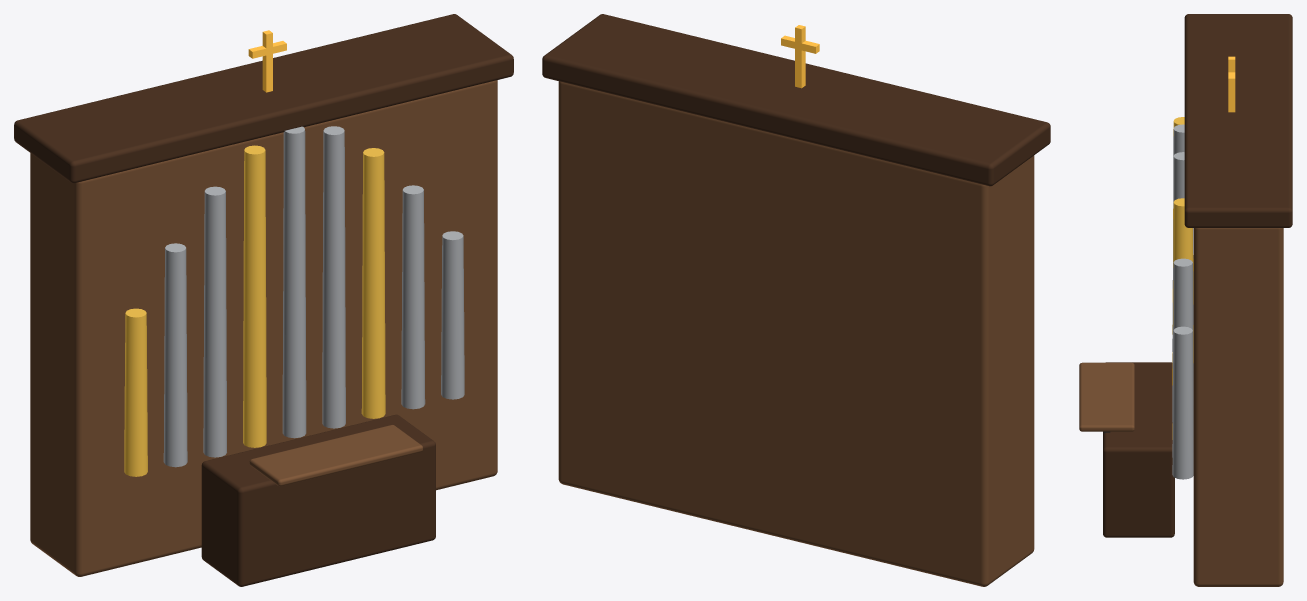
File: organ.glb
3 views of the same model, side by side, from view 1: azimuth 30°, elevation 25°; view 2: azimuth 150°, elevation 25°; view 3: azimuth 270°, elevation 25° (orthographic). The views are drawn at different scales.
Parts seen in each view (by area): view 1: Cabinet, Trim, Console, object 7, object 8, object 6, object 9, object 5, Bench, object 4, object 10, object 11 (+2 smaller); view 2: Cabinet, Trim, Cross; view 3: Cabinet, Trim, Console, Bench, object 11, object 10, object 9, object 8, Cross, object 7.
Boxes of the visible parts, x1,y1,x2,y2 form: Cabinet: [30, 80, 497, 576]; Trim: [14, 14, 513, 183]; Console: [201, 414, 435, 586]; object 7: [282, 126, 306, 438]; object 8: [322, 126, 345, 428]; object 6: [243, 145, 266, 447]; object 9: [361, 148, 385, 418]; object 5: [203, 186, 226, 457]; Bench: [249, 425, 422, 486]; object 4: [163, 243, 187, 467]; object 10: [401, 185, 425, 409]; object 11: [441, 231, 464, 399]; Cabinet: [558, 81, 1034, 586]; Trim: [542, 14, 1050, 186]; Cross: [781, 25, 819, 88]; Cabinet: [1193, 228, 1283, 586]; Trim: [1184, 14, 1292, 227]; Console: [1103, 362, 1174, 537]; Bench: [1079, 362, 1134, 431]; object 11: [1172, 326, 1193, 479]; object 10: [1172, 258, 1193, 457]; object 9: [1172, 198, 1193, 439]; object 8: [1172, 152, 1193, 421]; Cross: [1228, 56, 1235, 112]; object 7: [1172, 124, 1193, 403].
Size of the model in its own units: 3.36 by 3.48 by 1.54.
